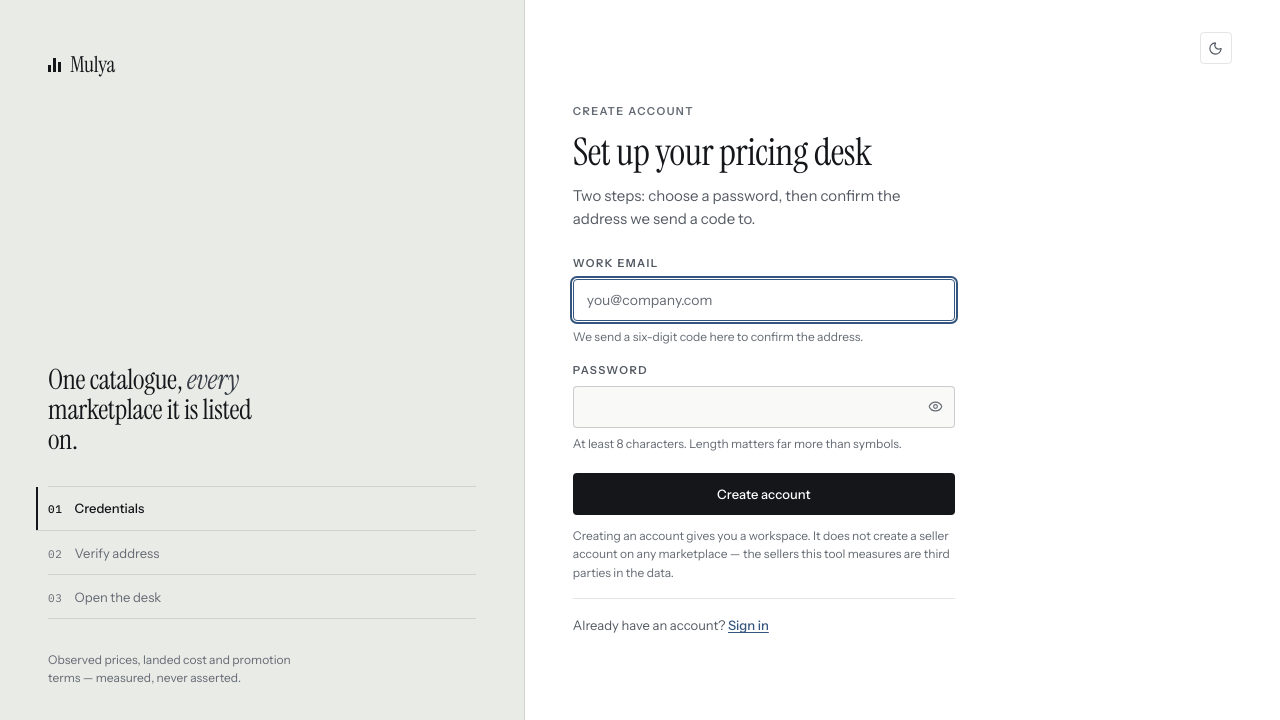
Test case: UI-AUTH — creating an account › a duplicate address is reported with a route to sign in, and no account state is invented
In the field labelled "Work email": (764, 300) 573,279 -> 955,321, type "operator@example.com"
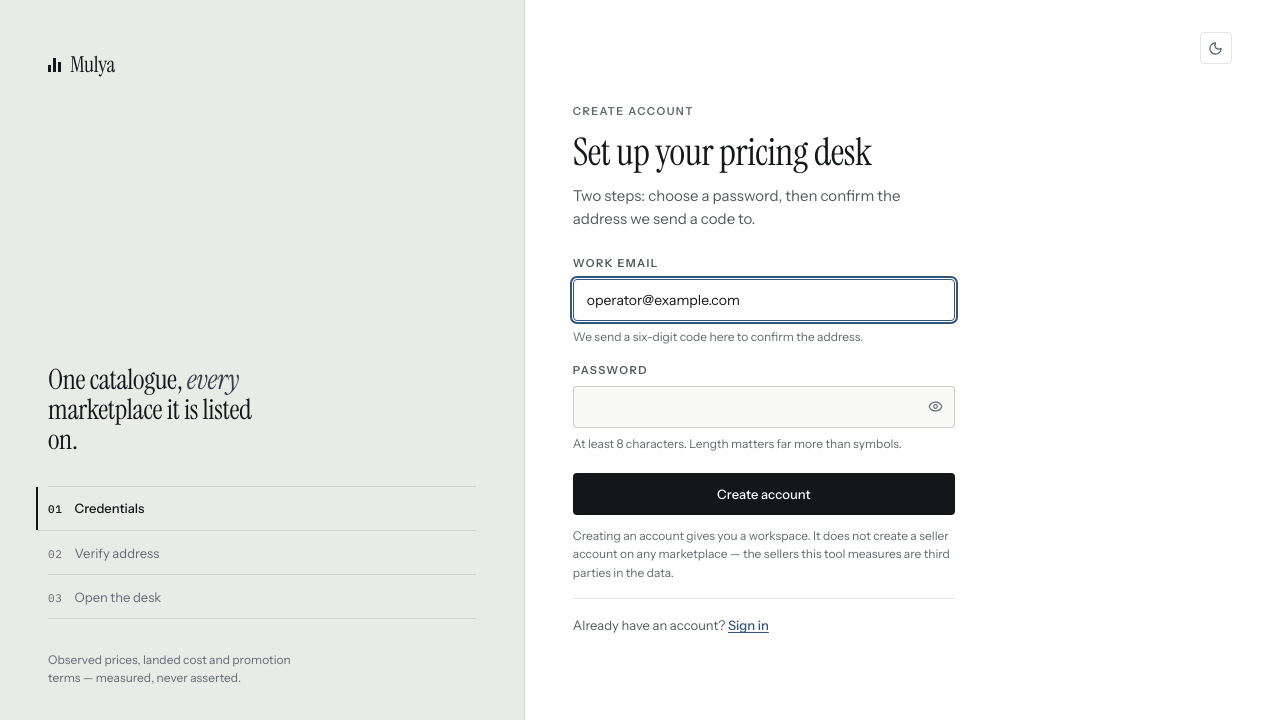
In the password field labelled "Password": (764, 407) 573,386 -> 955,428, type "correct-horse-battery"
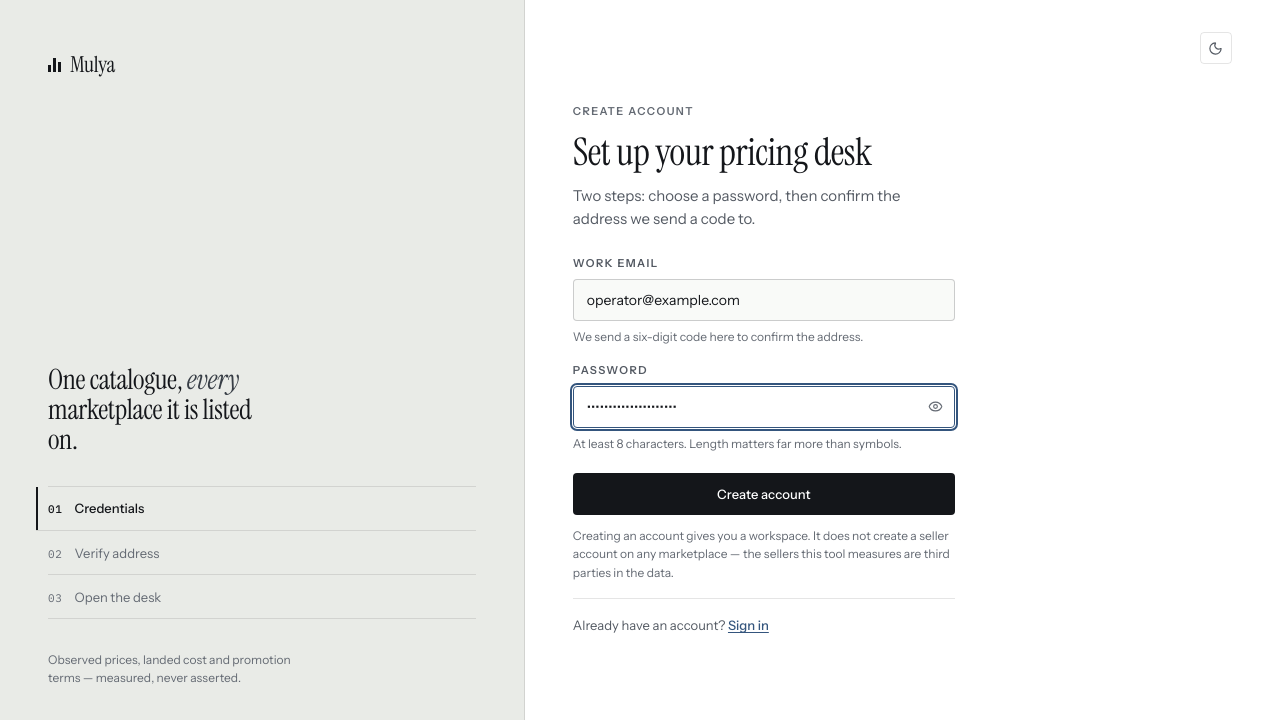
Click the button "Create account": (764, 494) 573,473 -> 955,515
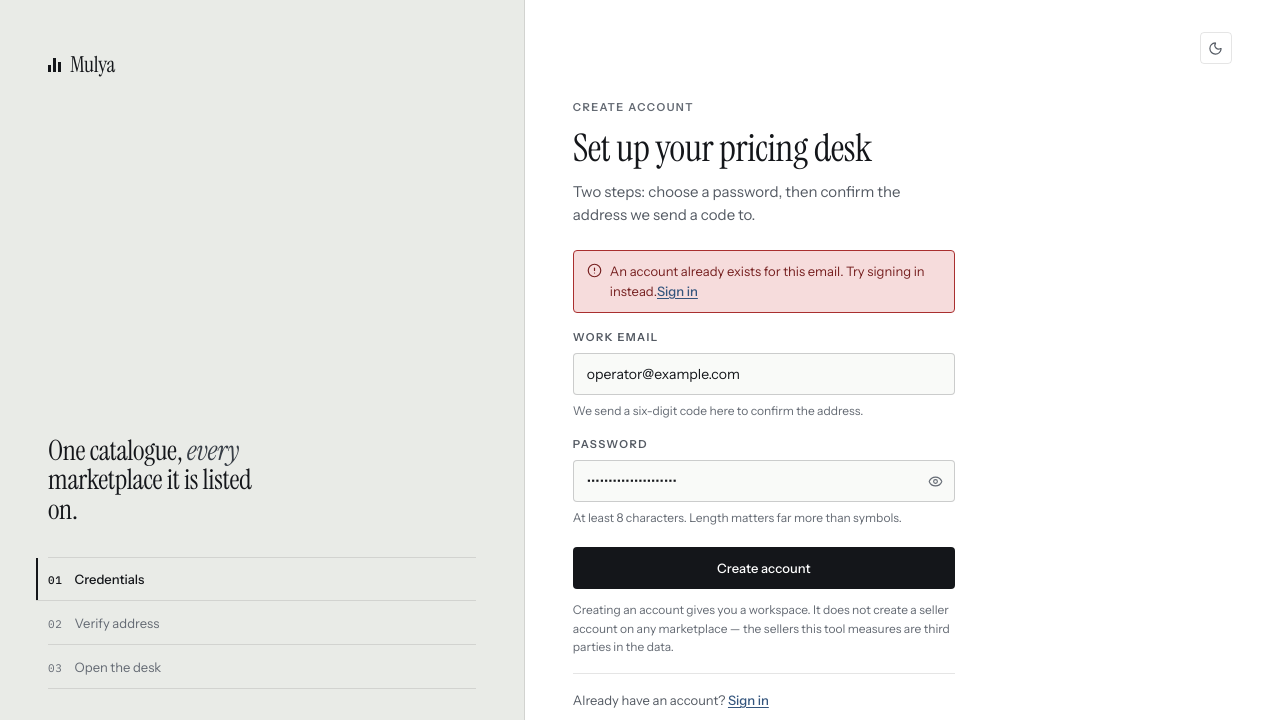
Expected: the message shows "already exists", 610,263 -> 925,299
Expected: the 1st link "Sign in" is shown, 657,283 -> 698,299
